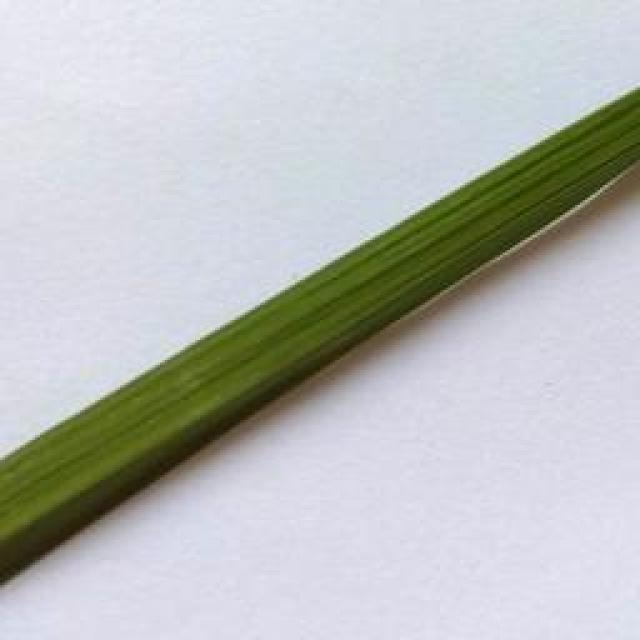Healthy-Plant: (0, 81, 640, 600)
